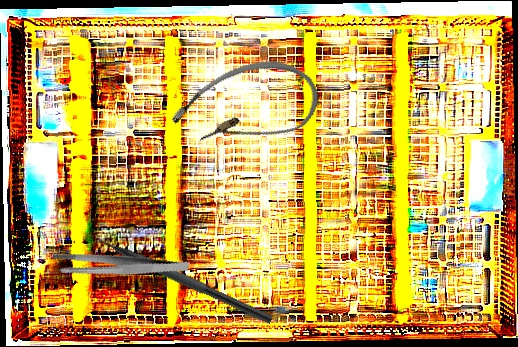Cannula: (162, 43, 329, 173)
Chopper: (81, 219, 280, 325)
Dressing Forceps: (49, 223, 190, 308)
